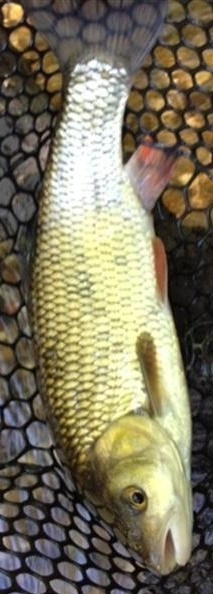Leuciscus cephalus: (20, 1, 193, 574)
